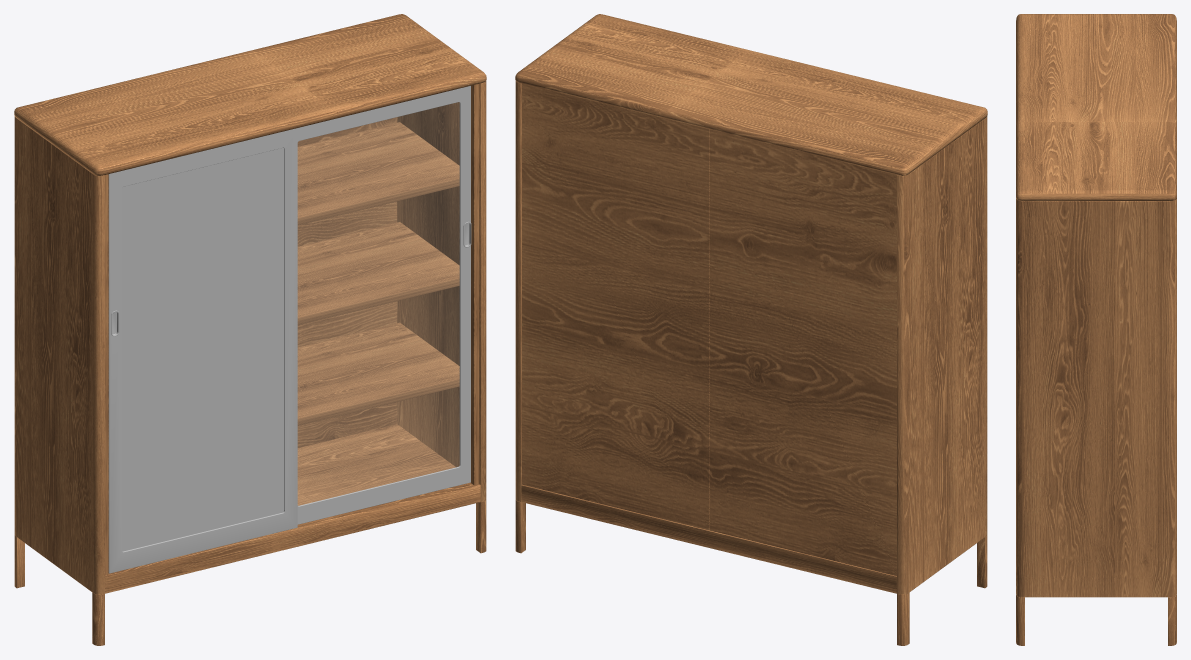
File: IKEA_IDASEN.FBX
3 renders of one model, left to right at view 1: azimuth 30°, elevation 25°; view 2: azimuth 150°, elevation 25°; view 3: azimuth 270°, elevation 25°, orthographic. The views are drawn at different scales.
Parts seen in each view (by area): view 1: Box020, Rectangle003, Box003, Box001, Box002, Box004, Box018, Box019, Box017, Box005, Box012, Box011 (+1 smaller); view 2: Box005, Box003, Box001, Box002, Box004, Box007; view 3: Box004, Box001, Box009, Box008.
Boxes of the visible parts, <box> form: Box020: <box>108,128,297,573</box>; Rectangle003: <box>297,86,471,524</box>; Box003: <box>14,117,104,594</box>; Box001: <box>14,14,486,175</box>; Box002: <box>105,424,480,593</box>; Box004: <box>397,81,486,501</box>; Box018: <box>297,122,459,225</box>; Box019: <box>297,322,459,425</box>; Box017: <box>297,222,459,325</box>; Box005: <box>297,117,397,447</box>; Box012: <box>471,84,479,485</box>; Box011: <box>105,174,108,575</box>; Box005: <box>522,83,896,575</box>; Box003: <box>897,117,987,594</box>; Box001: <box>515,14,987,175</box>; Box002: <box>521,484,896,593</box>; Box004: <box>515,81,521,501</box>; Box007: <box>897,592,909,645</box>; Box004: <box>1016,198,1176,597</box>; Box001: <box>1016,14,1176,200</box>; Box009: <box>1168,595,1176,645</box>; Box008: <box>1016,595,1024,645</box>.
Size of the model in its own units: 120 by 140 by 45.
